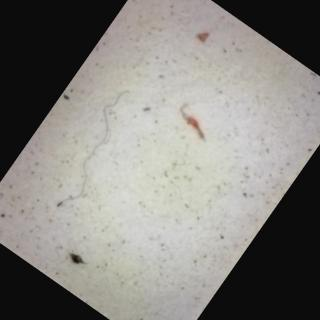Microplastic: (32, 77, 153, 224)
